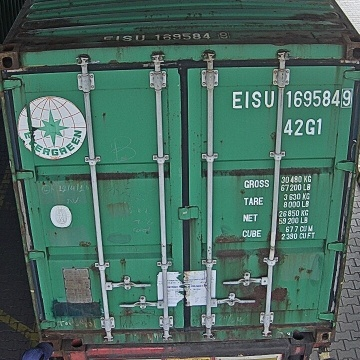serial_id: (233, 88, 351, 108)
